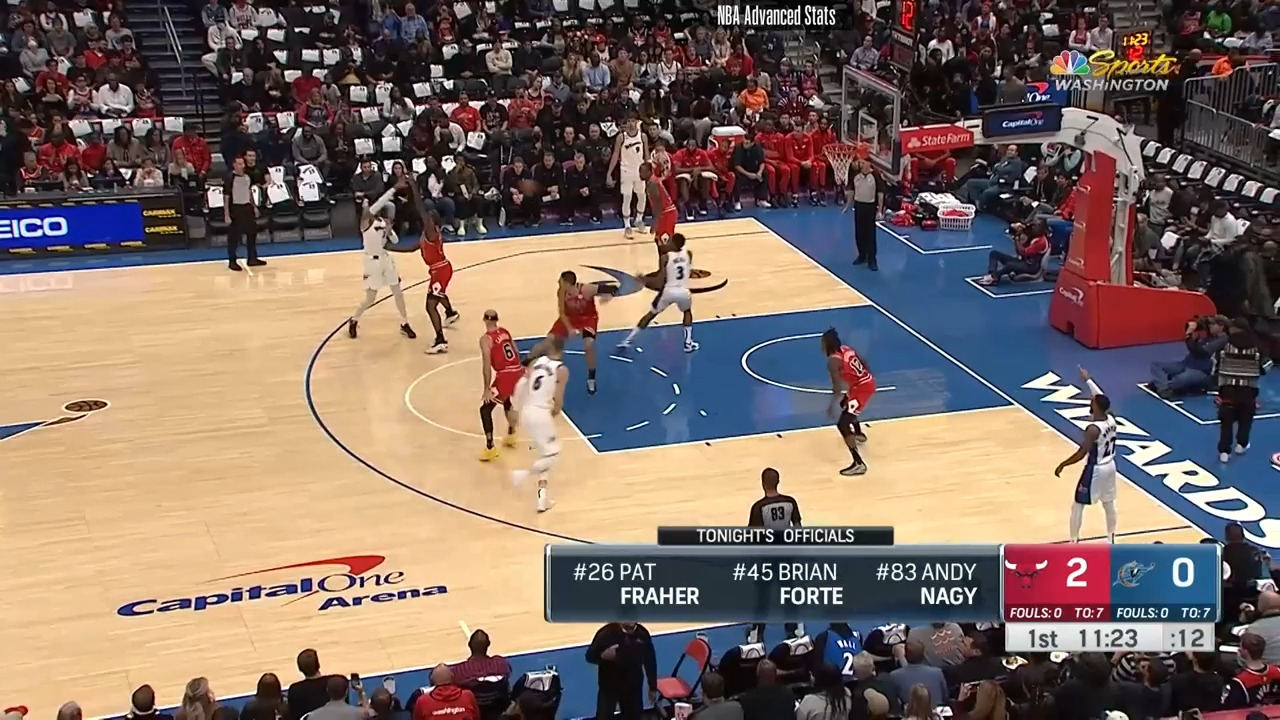net: (820, 136, 874, 184)
player: (1048, 360, 1123, 544), (502, 331, 573, 513), (351, 193, 426, 346), (628, 229, 709, 356), (544, 266, 623, 395), (406, 175, 460, 359), (812, 326, 876, 480), (475, 310, 531, 464), (606, 111, 654, 241), (638, 154, 682, 266)
referee: (221, 154, 265, 274), (845, 155, 885, 274)
